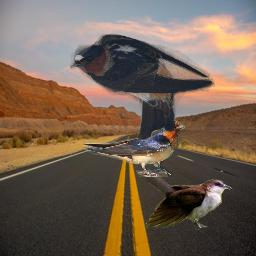Cuckoo: (146, 146, 233, 231)
Swallow: (70, 32, 215, 140), (84, 120, 185, 177)
